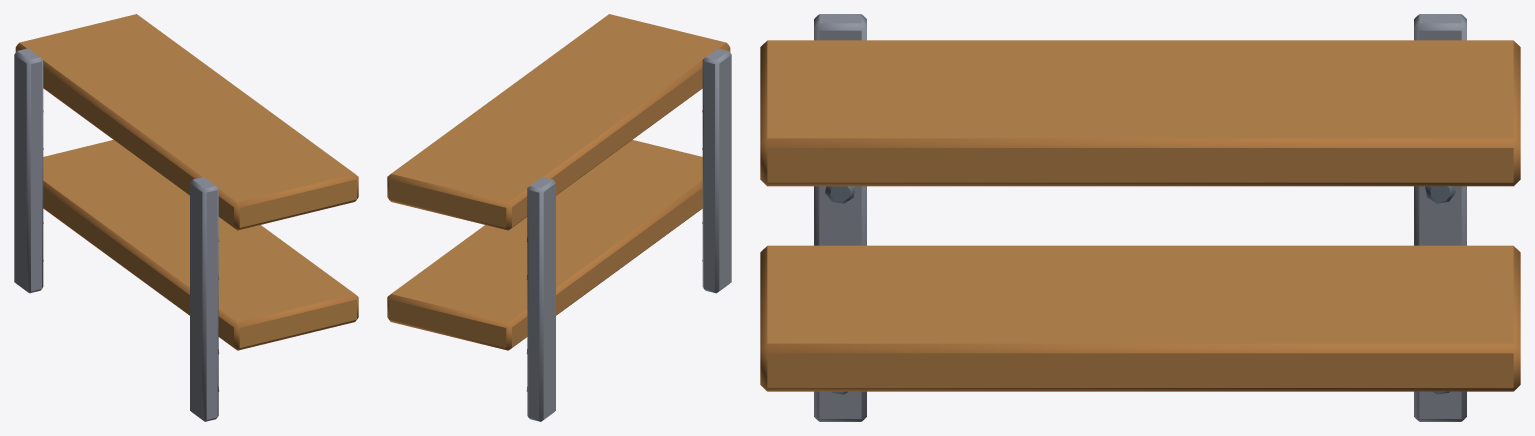
Rendered from HangShelf_2_A.glb.
3 renders of one model, left to right at view 1: azimuth 30°, elevation 25°; view 2: azimuth 150°, elevation 25°; view 3: azimuth 270°, elevation 25°, orthographic. The views are drawn at different scales.
Parts seen in each view (by area): view 1: HangShelf_2_A; view 2: HangShelf_2_A; view 3: HangShelf_2_A.
Boxes of the visible parts, bbox=[...] form: HangShelf_2_A: bbox=[14, 14, 358, 421]; HangShelf_2_A: bbox=[387, 14, 731, 421]; HangShelf_2_A: bbox=[760, 14, 1520, 421].
Bounding box in the file's own units: 0.5071 × 0.801 × 1.38.
Materials: 2 (2 with a texture image).
